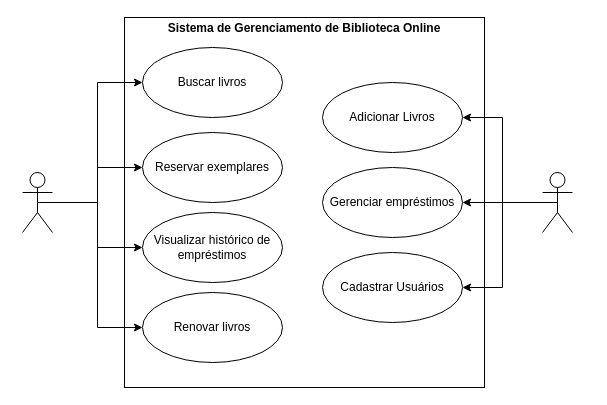
The diagram is 607 pixels wide and 405 high, and some of its shapes have lost their labels. Each missing label, with the centre of its shape:
Bibliotecário: pixel 557 202
Usuário: pixel 37 202
